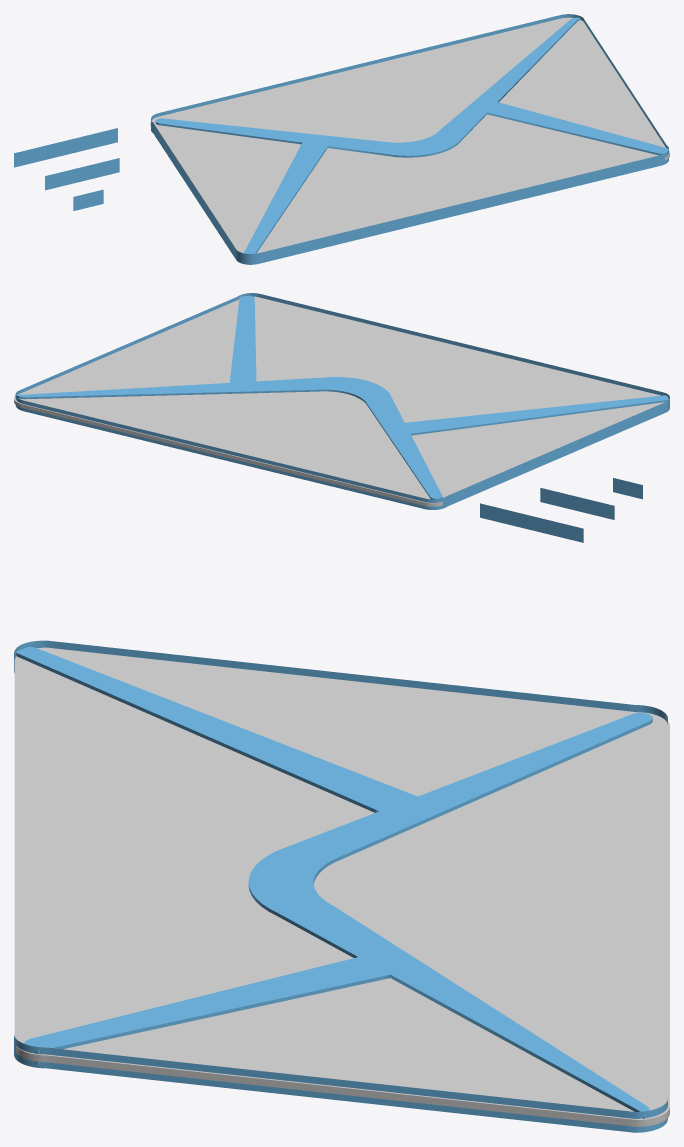
File: emoji_u1f4e8.glb
3 views of the same model, one above another, from view 1: azimuth 30°, elevation 25°; view 2: azimuth 150°, elevation 25°; view 3: azimuth 270°, elevation 25° (orthographic). The views are drawn at different scales.
Parts seen in each view (by area): view 1: emoji_u1f4e8; view 2: emoji_u1f4e8; view 3: emoji_u1f4e8.
Boxes of the visible parts, left/top/right/bottom form: emoji_u1f4e8: left=14, top=14, right=669, bottom=264; emoji_u1f4e8: left=14, top=293, right=669, bottom=542; emoji_u1f4e8: left=14, top=640, right=669, bottom=1132.
Size of the model in its own units: 0.0332 by 0.0008 by 0.0171.
